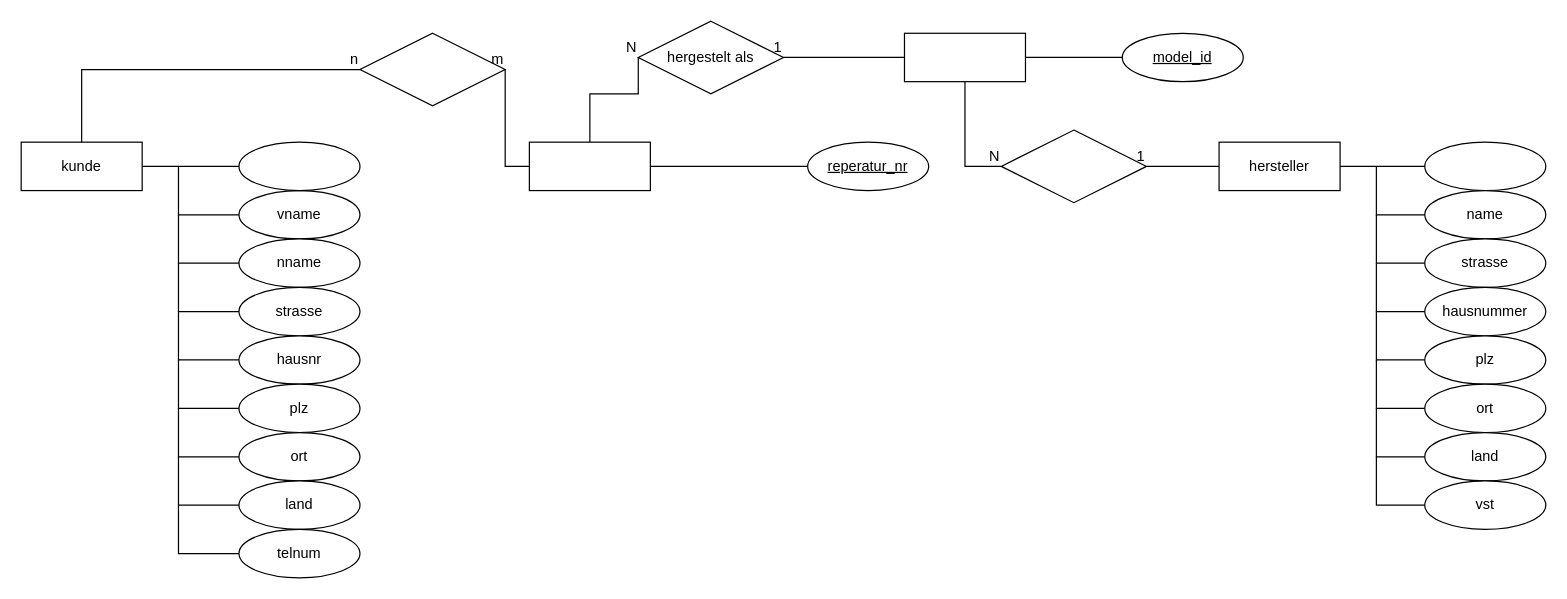
Some shapes in this 1567 by 599 pixel diagram are drawn without their labels. Here are the shapes that lost their labels. From the top down, the box of each, then its label:
(359, 32, 505, 106): besitzt
(903, 32, 1025, 82): model
(238, 141, 360, 191): kunden_nr
(528, 141, 650, 191): fahrad
(1000, 129, 1146, 203): gehört zu
(1424, 141, 1546, 191): hersteller_id
